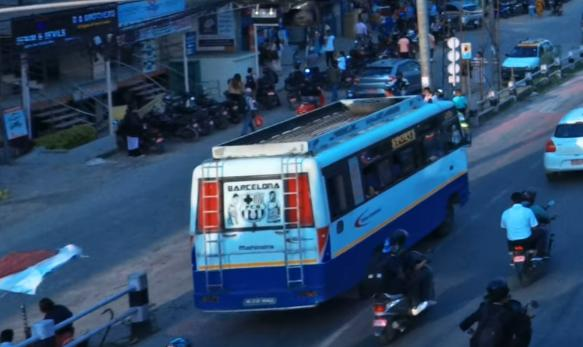bus: (185, 85, 471, 321)
